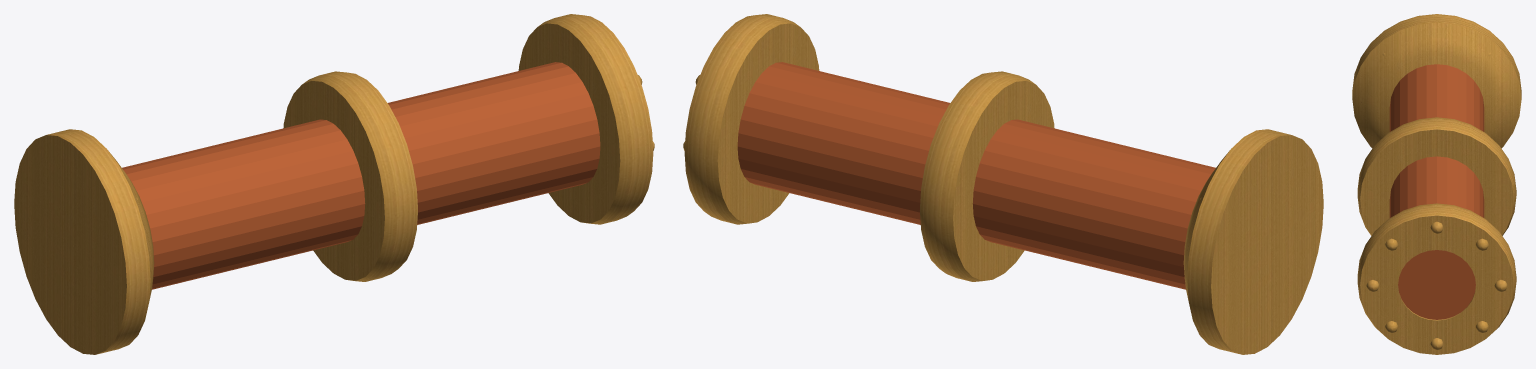
File: act2_pipe_L.glb
The picture shows the model from 3 angles, left to right: view 1: azimuth 30°, elevation 25°; view 2: azimuth 150°, elevation 25°; view 3: azimuth 270°, elevation 25°; orthographic projection. The views are drawn at different scales.
Visible parts, largest first — view 1: ANIM_Act2_PipeL_Mesh; view 2: ANIM_Act2_PipeL_Mesh; view 3: ANIM_Act2_PipeL_Mesh.
Part boxes in pixels (<box>): ANIM_Act2_PipeL_Mesh: <box>14,14,654,354</box>; ANIM_Act2_PipeL_Mesh: <box>683,14,1323,354</box>; ANIM_Act2_PipeL_Mesh: <box>1352,14,1521,354</box>.
Bounding box in the file's own units: 0.913 × 0.33 × 0.33.
3 materials, 2 textured.
